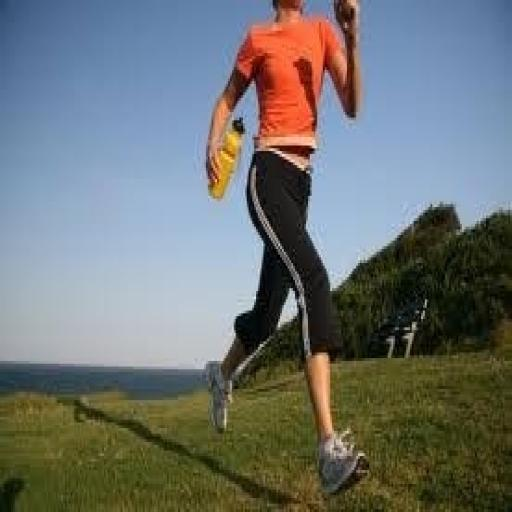running: (200, 0, 373, 498)
